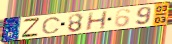6: (114, 8, 132, 28)
8: (67, 13, 84, 33)
9: (134, 6, 152, 26)
C: (41, 17, 62, 35)
H: (84, 10, 108, 32)
Z: (21, 17, 41, 39)
